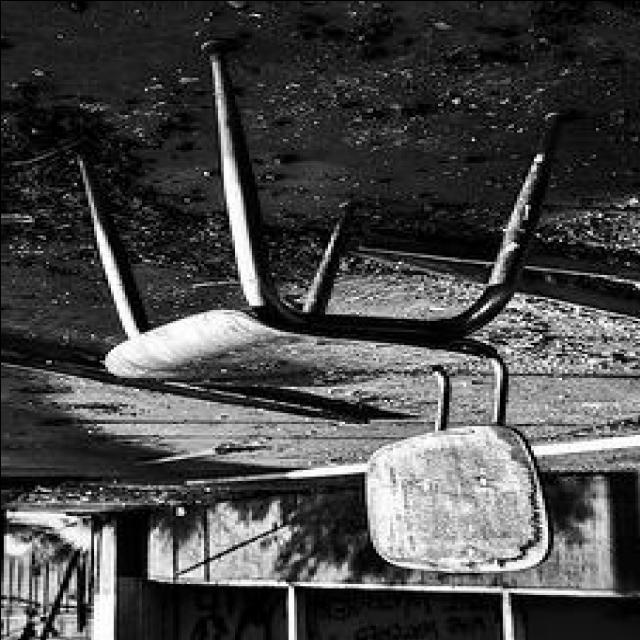chair: (70, 46, 566, 578)
